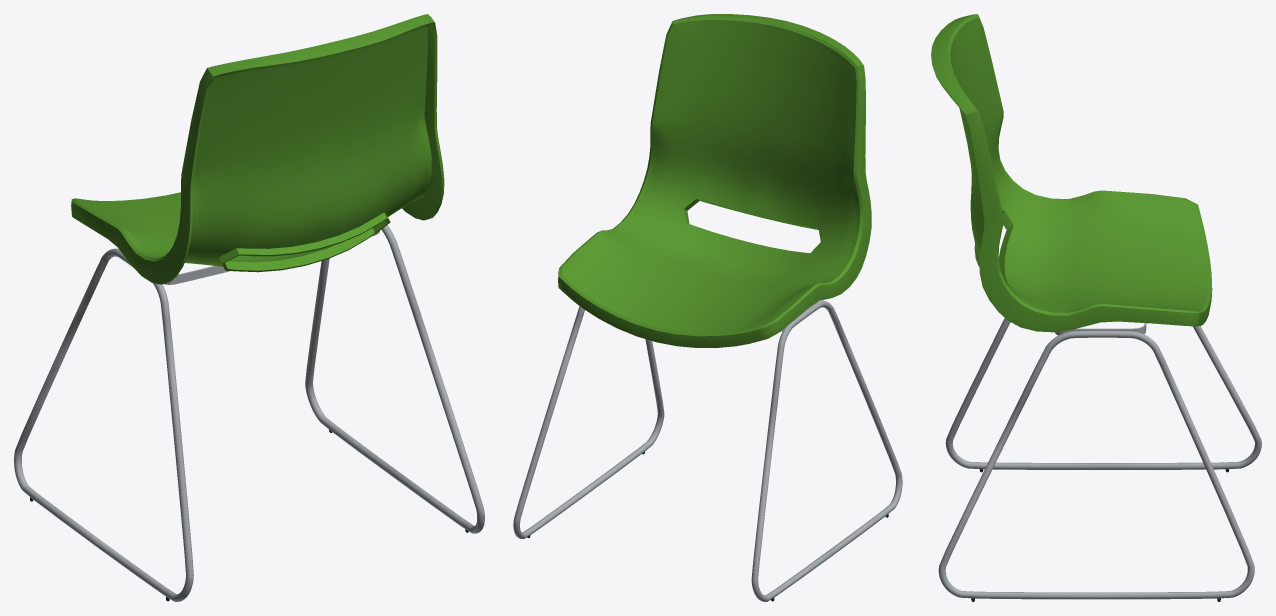
The model's file is SNILLE_chair_2_obj0_object.obj.
3 renders of one model, left to right at view 1: azimuth 30°, elevation 25°; view 2: azimuth 150°, elevation 25°; view 3: azimuth 270°, elevation 25°, orthographic. The views are drawn at different scales.
Visible parts, largest first — view 1: Mesh2 Group2 SNILLE_VISITEUR1 Model, Mesh7 SNILLE_PIED_1_2 SNILLE_VISITEUR1 Model, Mesh4 SNILLE_PIED_1_1 SNILLE_VISITEUR1 Model; view 2: Mesh2 Group2 SNILLE_VISITEUR1 Model, Mesh7 SNILLE_PIED_1_2 SNILLE_VISITEUR1 Model, Mesh4 SNILLE_PIED_1_1 SNILLE_VISITEUR1 Model; view 3: Mesh2 Group2 SNILLE_VISITEUR1 Model, Mesh4 SNILLE_PIED_1_1 SNILLE_VISITEUR1 Model, Mesh7 SNILLE_PIED_1_2 SNILLE_VISITEUR1 Model.
Part boxes in pixels (x1,y1,x2,y2): Mesh2 Group2 SNILLE_VISITEUR1 Model: (71,14,444,284); Mesh7 SNILLE_PIED_1_2 SNILLE_VISITEUR1 Model: (14,248,193,601); Mesh4 SNILLE_PIED_1_1 SNILLE_VISITEUR1 Model: (305,225,484,533); Mesh2 Group2 SNILLE_VISITEUR1 Model: (558,14,871,347); Mesh7 SNILLE_PIED_1_2 SNILLE_VISITEUR1 Model: (751,300,902,601); Mesh4 SNILLE_PIED_1_1 SNILLE_VISITEUR1 Model: (513,306,664,538); Mesh2 Group2 SNILLE_VISITEUR1 Model: (931,14,1212,332); Mesh4 SNILLE_PIED_1_1 SNILLE_VISITEUR1 Model: (938,330,1254,599); Mesh7 SNILLE_PIED_1_2 SNILLE_VISITEUR1 Model: (945,318,1261,469).
Bounding box in the file's own units: 20.28 × 34.64 × 21.43.
